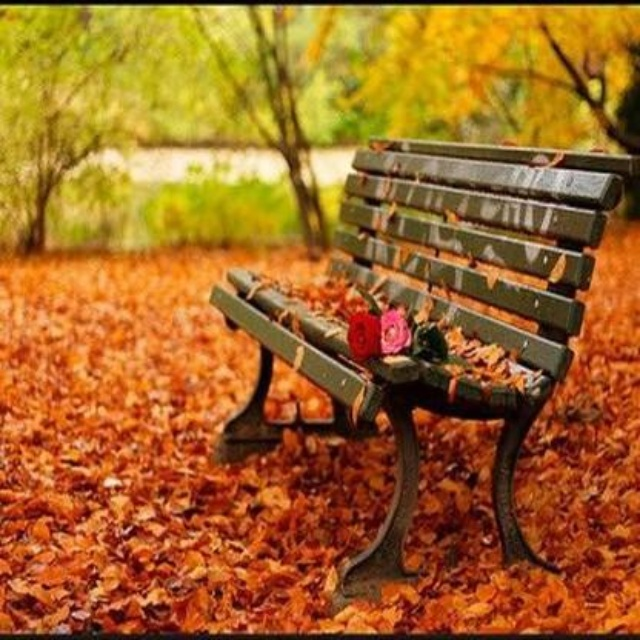obstacle: (203, 128, 634, 582)
